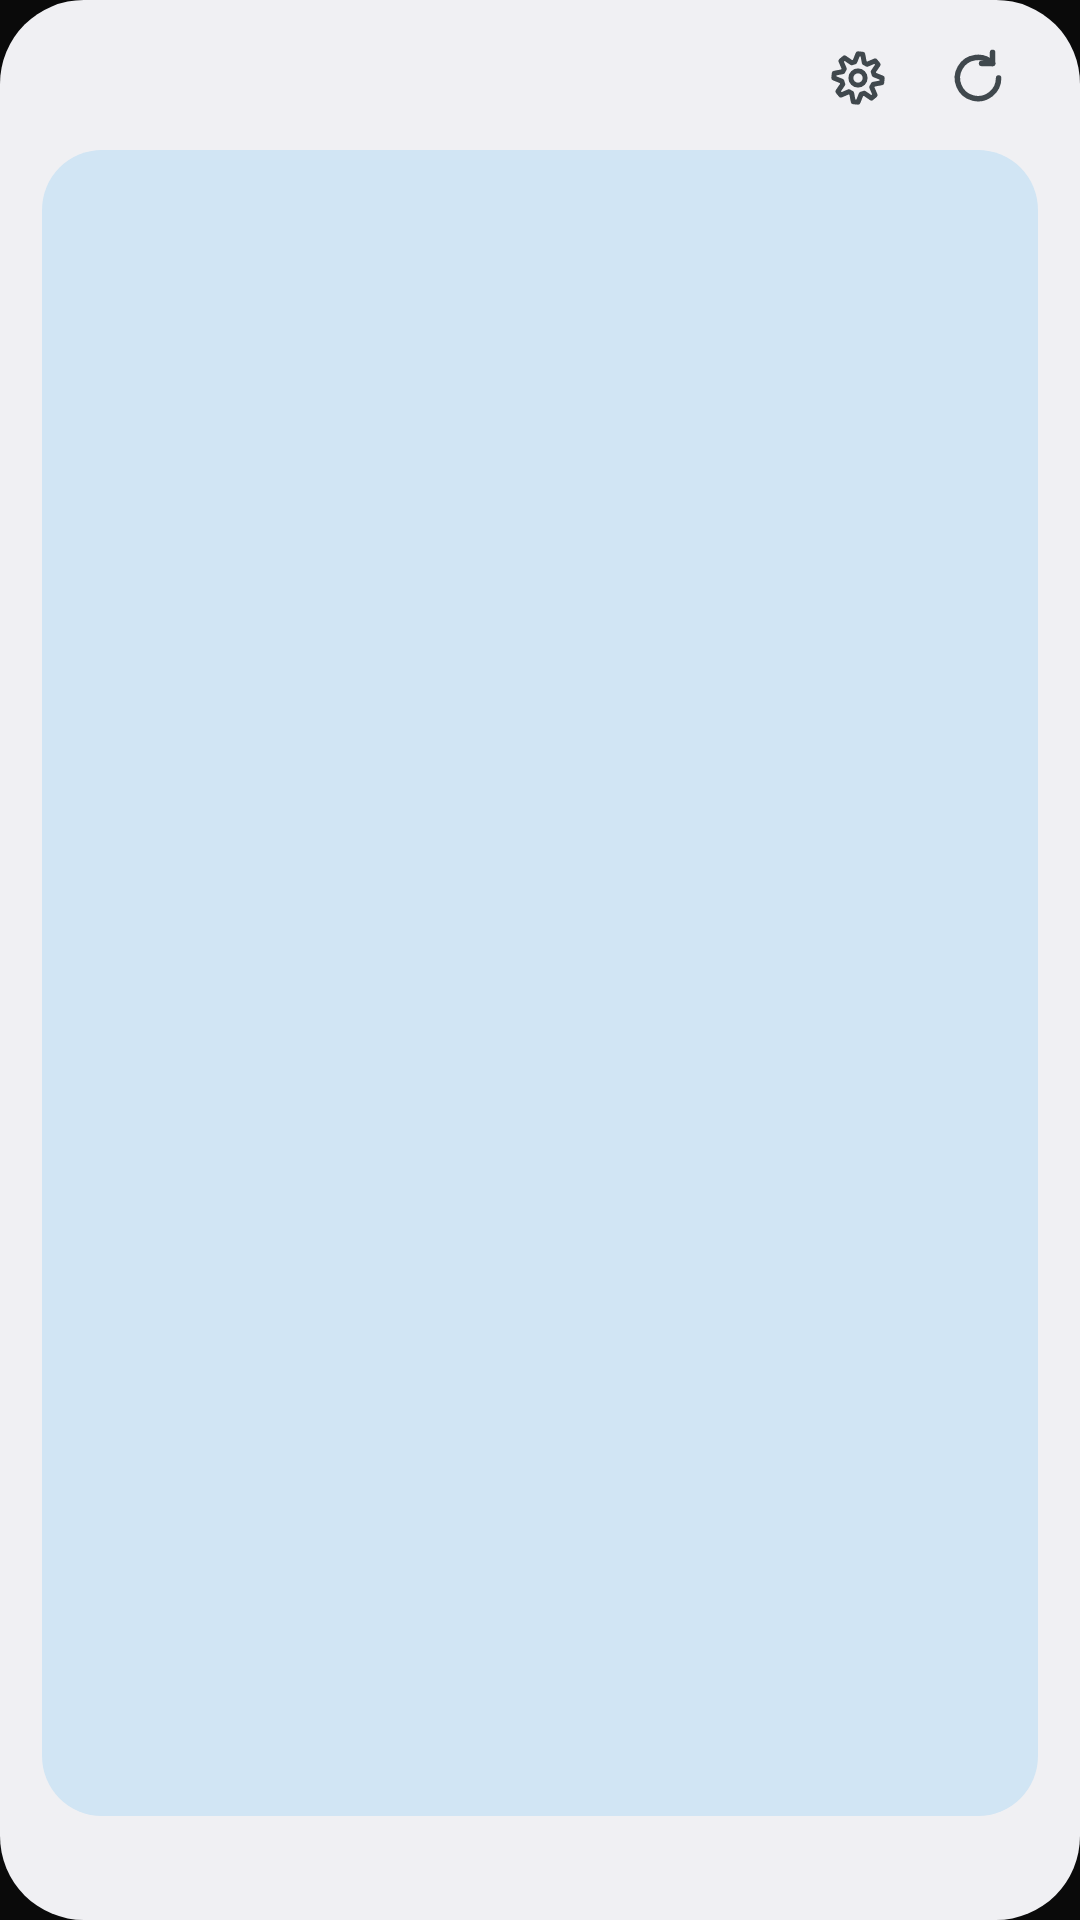

Icon click points for this 1080×1920 phone screenshot, format [x,y]:
Refresh: [978,75]
